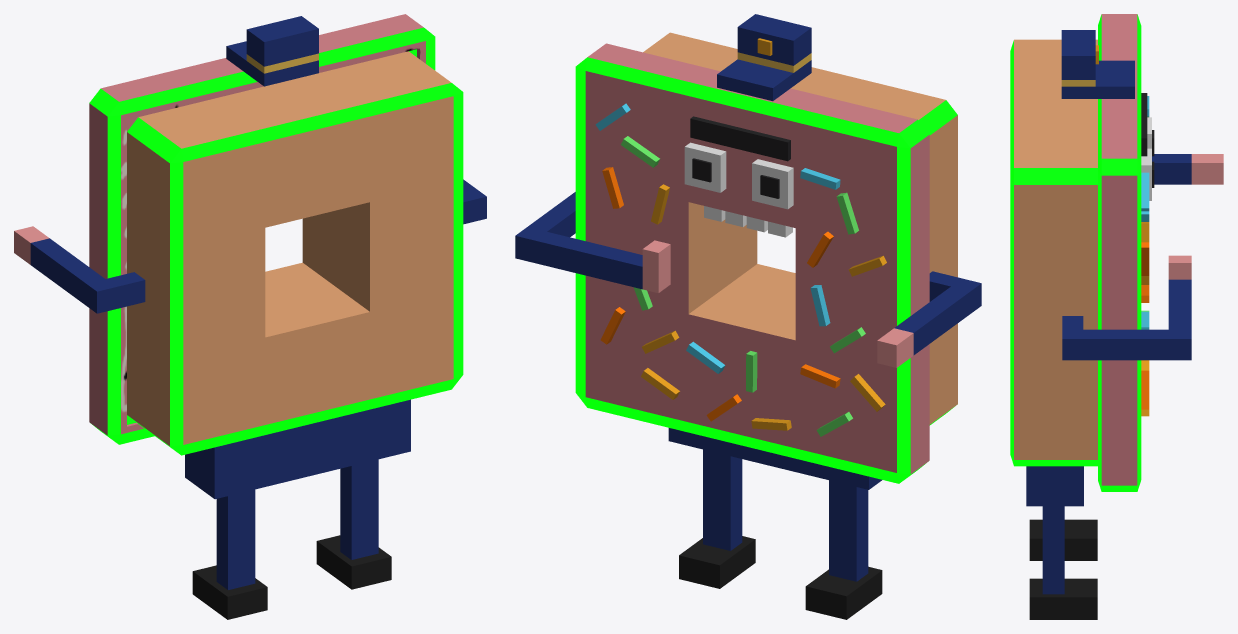
File: OF_Receptor.fbx
3 renders of one model, left to right at view 1: azimuth 30°, elevation 25°; view 2: azimuth 150°, elevation 25°; view 3: azimuth 270°, elevation 25°, orthographic. The views are drawn at different scales.
Parts seen in each view (by area): view 1: Cube.021; view 2: Cube.021; view 3: Cube.021.
Boxes of the visible parts, x1,y1,x2,y2 form: Cube.021: (14,14,486,619); Cube.021: (515,14,981,619); Cube.021: (1010,14,1223,619).
Size of the model in its own units: 148 by 201 by 72.3.
13 materials, 1 textured.
